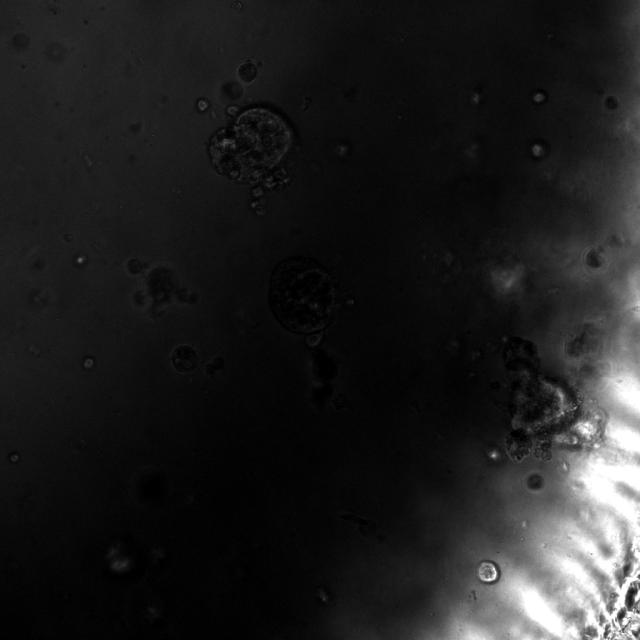organoid: (447, 336, 606, 461), (208, 104, 294, 212), (125, 258, 199, 319), (564, 321, 611, 390), (172, 345, 198, 373), (582, 247, 608, 273), (476, 559, 500, 584), (522, 470, 546, 494), (221, 81, 243, 101), (238, 59, 257, 82), (194, 96, 211, 113), (604, 95, 619, 110)
